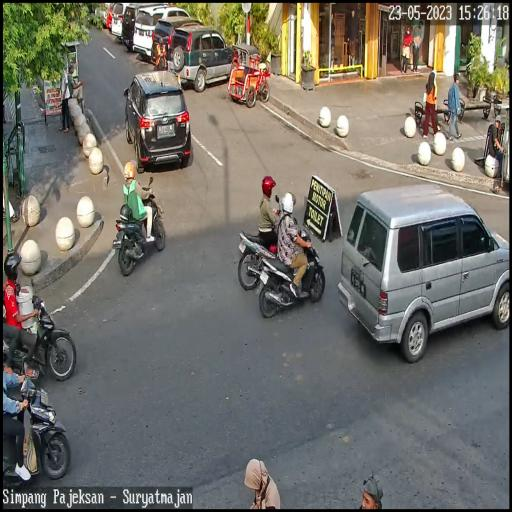mobil: (340, 180, 512, 356), (124, 60, 195, 174), (170, 20, 238, 88), (135, 4, 194, 63), (151, 17, 204, 71)
motor: (0, 374, 72, 487), (0, 287, 77, 377), (257, 234, 328, 314), (233, 194, 288, 296), (112, 178, 167, 276)
